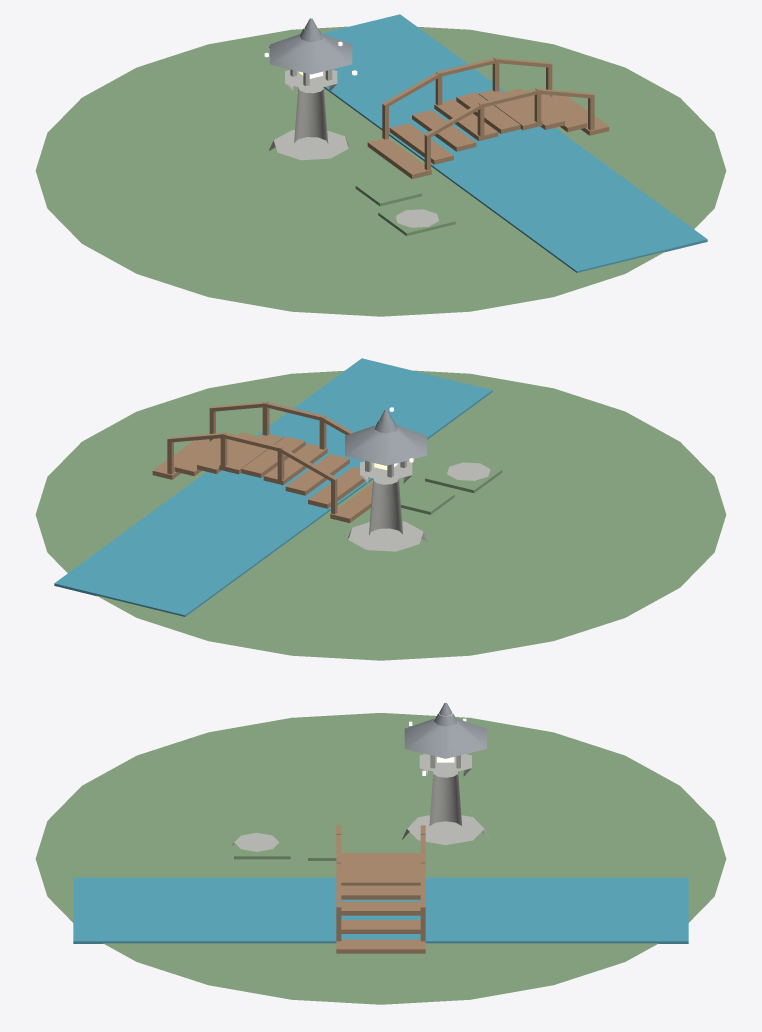
The model's file is stone-lantern.glb.
The picture shows the model from 3 angles, top to bottom: view 1: azimuth 30°, elevation 25°; view 2: azimuth 150°, elevation 25°; view 3: azimuth 270°, elevation 25°; orthographic projection.
Parts seen in each view (by area): view 1: MossGround, TranquilStream, WoodenGardenBridge, StoneLanternGranite, StoneLanternRoof; view 2: MossGround, TranquilStream, WoodenGardenBridge, StoneLanternGranite, StoneLanternRoof; view 3: MossGround, TranquilStream, WoodenGardenBridge, StoneLanternGranite, StoneLanternRoof.
Boxes of the visible parts, x1,y1,x2,y2 form: MossGround: (35, 26, 726, 316); TranquilStream: (269, 14, 707, 272); WoodenGardenBridge: (367, 57, 609, 178); StoneLanternGranite: (269, 69, 438, 227); StoneLanternRoof: (270, 18, 352, 74); MossGround: (35, 370, 726, 660); TranquilStream: (54, 358, 492, 616); WoodenGardenBridge: (152, 401, 373, 522); StoneLanternGranite: (348, 461, 490, 551); StoneLanternRoof: (345, 410, 426, 465); MossGround: (35, 713, 726, 1004); TranquilStream: (73, 877, 688, 943); WoodenGardenBridge: (336, 825, 425, 953); StoneLanternGranite: (232, 754, 489, 851); StoneLanternRoof: (404, 703, 486, 758).
Size of the model in its own units: 13.6 by 2.9 by 13.6.
